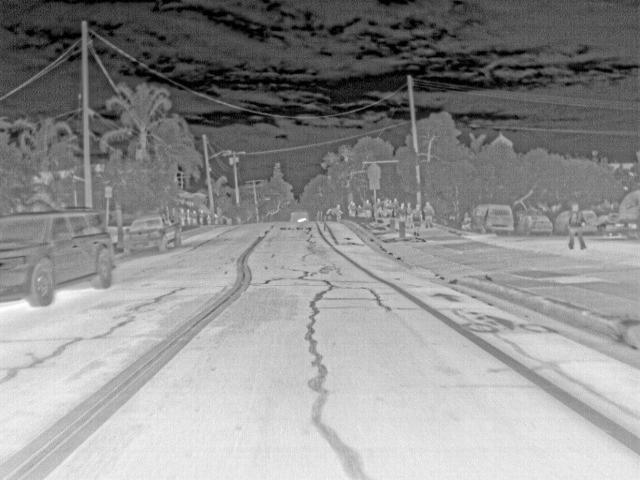car: (0, 206, 115, 308), (126, 215, 182, 254), (470, 204, 515, 234), (614, 190, 637, 242), (518, 211, 552, 237), (582, 209, 602, 236), (553, 209, 568, 233), (601, 212, 618, 233), (289, 208, 309, 223)
person: (565, 200, 585, 250), (412, 202, 425, 240), (422, 200, 436, 230), (403, 199, 416, 224), (396, 200, 410, 219), (459, 209, 471, 231), (376, 197, 388, 219), (363, 196, 375, 218), (385, 198, 398, 218), (331, 205, 344, 224), (346, 198, 358, 217), (355, 204, 367, 220), (178, 206, 187, 227), (192, 208, 200, 227), (185, 206, 192, 226), (198, 209, 206, 224), (205, 213, 213, 225)
